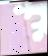dent: (0, 0, 48, 54)
